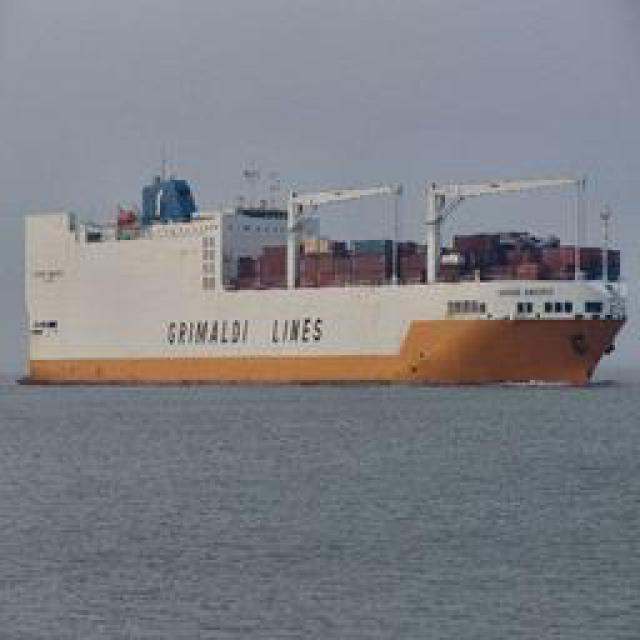Ship: (1, 154, 626, 389)
